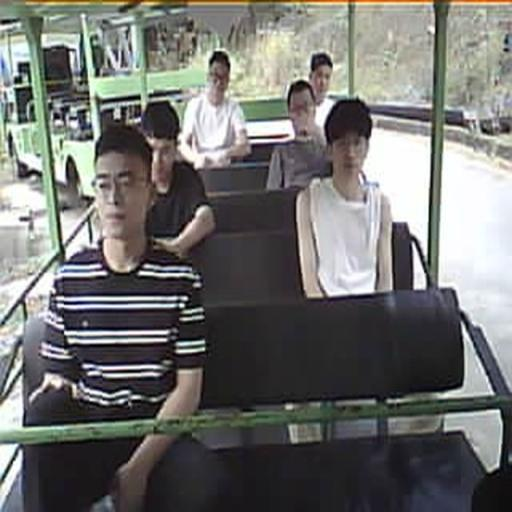persona: (22, 122, 208, 511), (296, 97, 394, 298), (136, 99, 217, 265), (176, 50, 252, 170), (266, 79, 332, 190), (307, 52, 337, 135)
